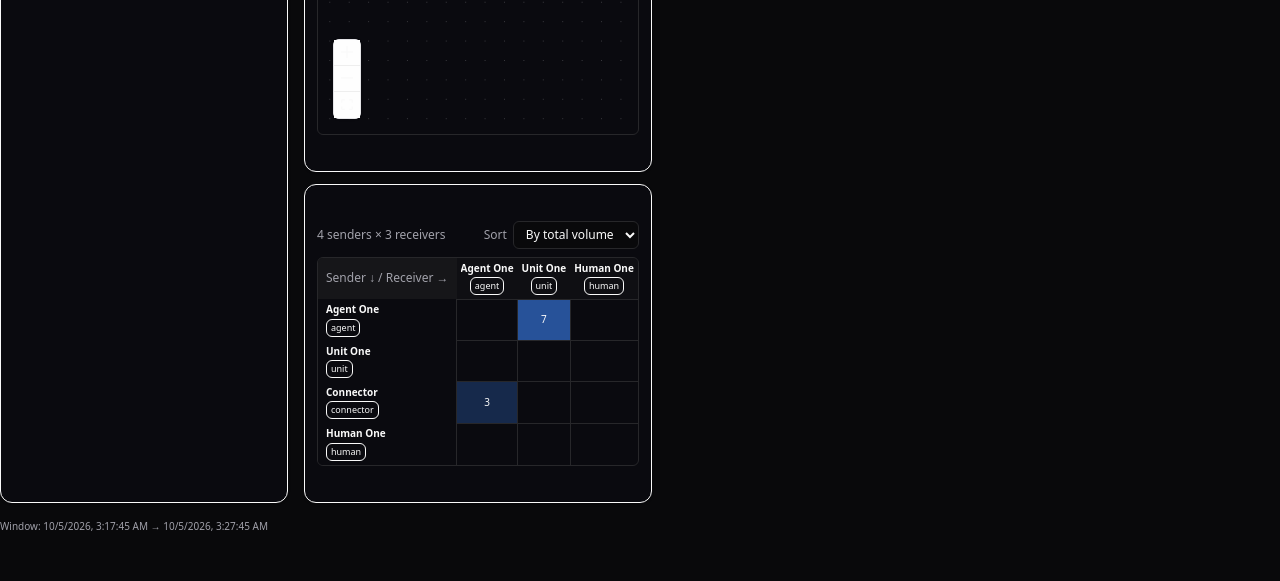
Scenario: InteractionsPage › clicking a matrix cell opens the detail popover
The image size is (1280, 581).
(page scrolled)
Expected: the element with test id "interaction-matrix" is shown, top-left (317, 220), bottom-right (639, 466)
Click the button with test id "interaction-matrix-cell-agent-1-unit-1" at (544, 320), box top-left (518, 299), bottom-right (570, 341)
(page scrolled)
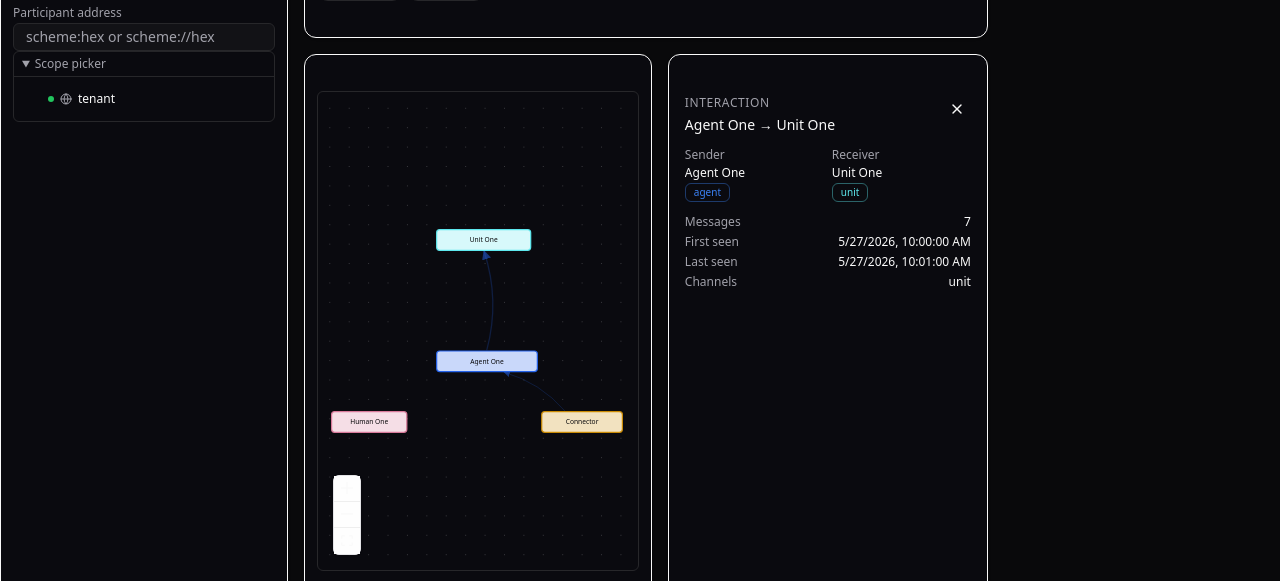
Expected: the text with test id "interaction-detail-count" reads "7", top-left (964, 213), bottom-right (971, 230)
